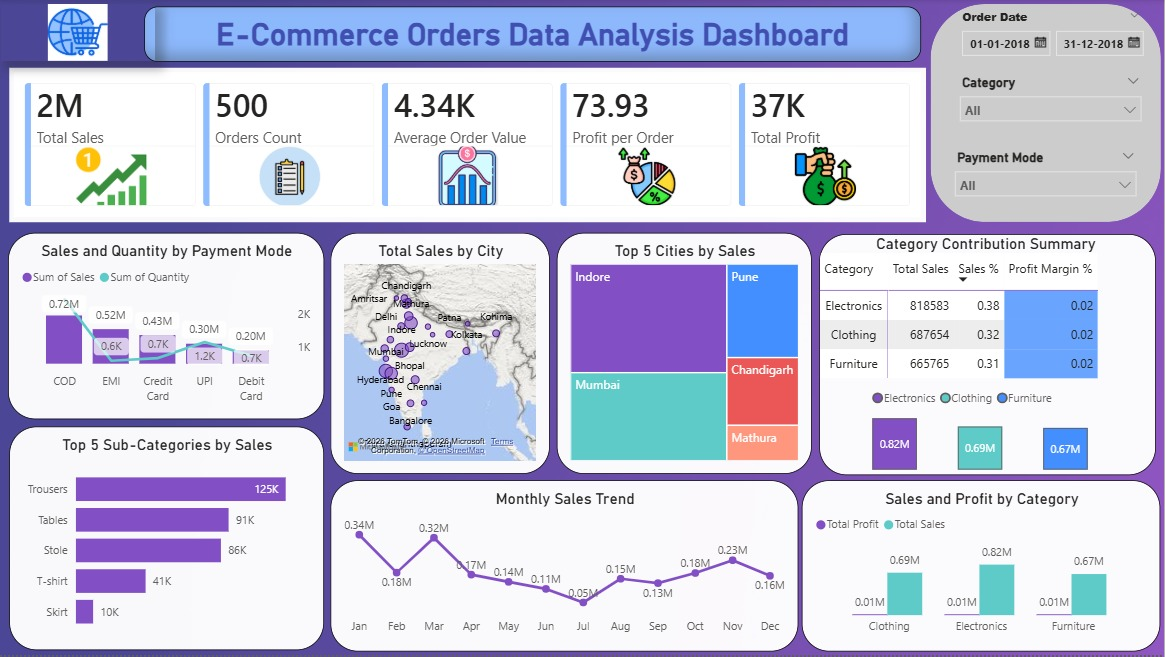

Layout of this report page (visuals, bound fields, positions):
{"tool":"powerbi","page":{"name":"Page 1","canvas":[1280,720],"ordinal":0},"visuals":[{"type":"textbox","box":[160.6,7.6,853,60.6],"z":0},{"type":"cardVisual","fields":{"Data":["Sum(Details.Sales)","Details.Orders Count","Details.Average Order Value","Details.Profit per Order","Details.Total Profit"]},"box":[12.1,75.8,1006.1,169.7],"z":1000},{"type":"shape","box":[1023.5,6.1,253,239.4],"z":2000},{"type":"slicer","fields":{"Values":["Orders.Order Date"]},"box":[1045.5,6.1,219.7,89.4],"z":3000},{"type":"slicer","fields":{"Values":["Details.Category"]},"box":[1045.5,78.8,219.7,69.7],"z":4000},{"type":"slicer","fields":{"Values":["Details.PaymentMode"]},"box":[1040.1,160.6,219.7,66.7],"z":5000},{"type":"lineChart","title":"Monthly Sales Trend","fields":{"Y":["Details.Total Sales"],"Category":["Orders.Month Short"]},"box":[365.2,528.8,513.6,187.9],"z":6000},{"type":"clusteredColumnChart","title":"Sales and Profit by Category","fields":{"Category":["Details.Category"],"Y":["Details.Total Profit","Details.Total Sales"]},"box":[881.8,528.8,393.9,187.9],"z":7000},{"type":"barChart","title":"Top 5 Sub-Categories by Sales","fields":{"Category":["Details.Sub-Category"],"Y":["Details.Total Sales"]},"box":[12.1,469.7,345.5,245.5],"z":8000},{"type":"image","box":[3,6.1,169.7,62.1],"z":9000},{"type":"map","fields":{"Category":["Orders.City"],"Size":["Details.Total Sales"]},"box":[365.2,256.1,240.9,265.2],"z":10000},{"type":"lineStackedColumnComboChart","title":"Sales and Quantity by Payment Mode","fields":{"Category":["Details.PaymentMode"],"Y":["Sum(Details.Sales)"],"Y2":["Sum(Details.Quantity)"]},"box":[10.6,256.1,347,204.5],"z":11000},{"type":"treemap","title":"Top 5 Cities by Sales","fields":{"Group":["Orders.City"],"Values":["CountNonNull(Details.Sub-Category)"]},"box":[613.6,256.1,280.3,265],"z":12000},{"type":"pivotTable","title":"Category Contribution Summary","fields":{"Rows":["Details.Category"],"Values":["Details.Total Sales","Details.Sales %","Details.Profit Margin %"]},"box":[901.5,257.6,369.7,265.2],"z":13000},{"type":"columnChart","fields":{"Y":["Details.Total Sales"],"Series":["Details.Category"],"Category":["Details.Category"]},"box":[955.1,418.5,253.9,104.3],"z":14000}]}

Visuals, with their boxes in screenshot pixels (x1, y1, x2, y2), scaled from the page's 1280x720 canvas onto the 1165x657 screenshot:
textbox: left=146, top=7, right=923, bottom=62
cardVisual - Sum(Details.Sales) x Details.Orders Count: left=11, top=69, right=927, bottom=224
shape: left=932, top=6, right=1162, bottom=224
slicer - Orders.Order Date: left=952, top=6, right=1152, bottom=87
slicer - Details.Category: left=952, top=72, right=1152, bottom=136
slicer - Details.PaymentMode: left=947, top=147, right=1147, bottom=207
"Monthly Sales Trend" lineChart: left=332, top=483, right=800, bottom=654
"Sales and Profit by Category" clusteredColumnChart: left=803, top=483, right=1161, bottom=654
"Top 5 Sub-Categories by Sales" barChart: left=11, top=429, right=325, bottom=653
image: left=3, top=6, right=157, bottom=62
map - Orders.City x Details.Total Sales: left=332, top=234, right=552, bottom=476
"Sales and Quantity by Payment Mode" lineStackedColumnComboChart: left=10, top=234, right=325, bottom=420
"Top 5 Cities by Sales" treemap: left=558, top=234, right=814, bottom=476
"Category Contribution Summary" pivotTable: left=821, top=235, right=1157, bottom=477
columnChart - Details.Total Sales x Details.Category: left=869, top=382, right=1100, bottom=477
